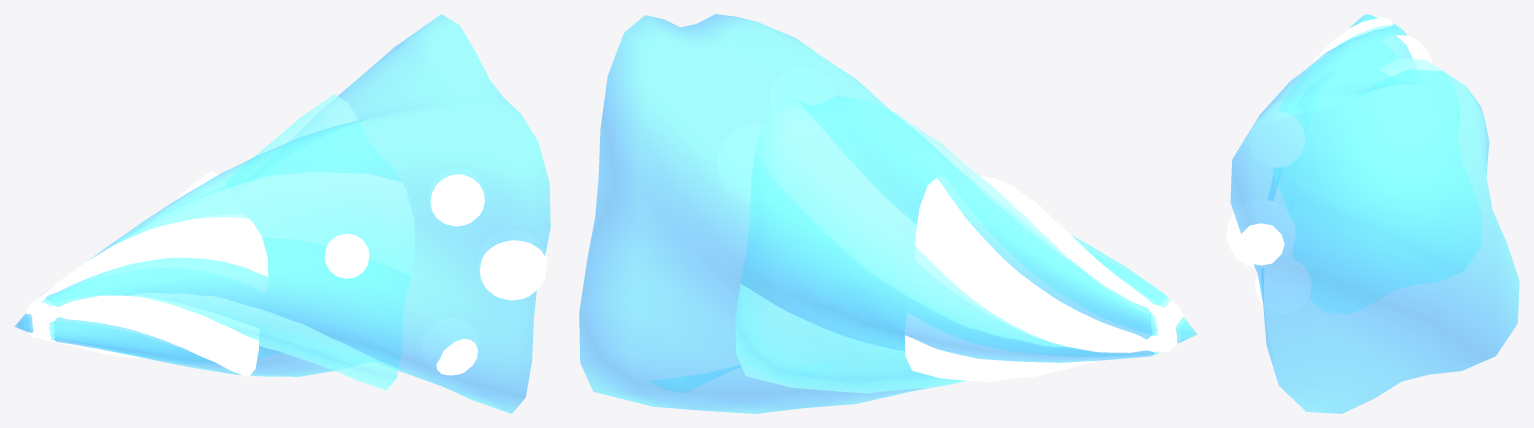
The model's file is VFX_05_五娃_剪纸卷浪水柱.glb.
3 views of the same model, side by side, from view 1: azimuth 30°, elevation 25°; view 2: azimuth 150°, elevation 25°; view 3: azimuth 270°, elevation 25° (orthographic). The views are drawn at different scales.
Parts seen in each view (by area): view 1: WaterCone_0, WaterCone_1, WaterCone_2, Sphere.002, Sphere.001, Sphere.003, Sphere; view 2: WaterCone_0, WaterCone_1, WaterCone_2, Sphere.002, Sphere.001; view 3: WaterCone_0, WaterCone_1, Sphere.002, Sphere.001, Sphere.003, WaterCone_2.
Boxes of the visible parts, x1,y1,x2,y2 form: WaterCone_0: (14, 14, 550, 413); WaterCone_1: (18, 94, 415, 390); WaterCone_2: (24, 171, 268, 377); Sphere.002: (477, 230, 547, 300); Sphere.001: (428, 169, 485, 226); Sphere.003: (422, 318, 479, 375); Sphere: (324, 233, 369, 278); WaterCone_0: (579, 14, 1197, 413); WaterCone_1: (735, 96, 1193, 393); WaterCone_2: (905, 175, 1185, 381); Sphere.002: (717, 124, 762, 204); Sphere.001: (770, 67, 834, 107); WaterCone_0: (1230, 14, 1519, 413); WaterCone_1: (1272, 15, 1481, 313); Sphere.002: (1226, 199, 1295, 267); Sphere.001: (1249, 111, 1304, 167); Sphere.003: (1255, 258, 1311, 313); WaterCone_2: (1308, 14, 1433, 70).
Bounding box in the file's own units: 3.36 × 2.41 × 1.85.
